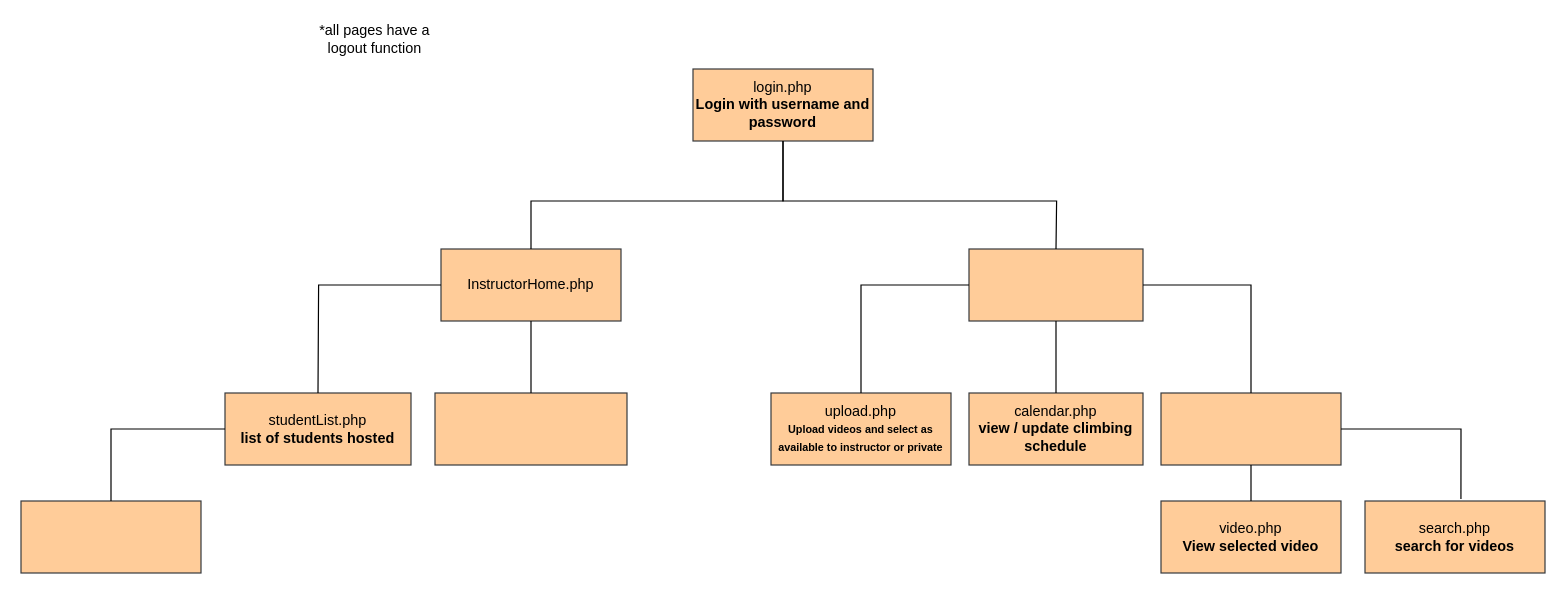
Some shapes in this 1566 by 594 pixel diagram are drawn without their labels. The shapes that lost their labels are listed below. From the top down, each one's centre as x and y in pixels, then its label:
the point at 1055,284: studentHome.php
the point at 530,428: createSession.php create a class and upload it/notify students calendars
the point at 1250,428: library.php See uploaded videos with filter option
the point at 110,536: search.php search for pupils/videos
